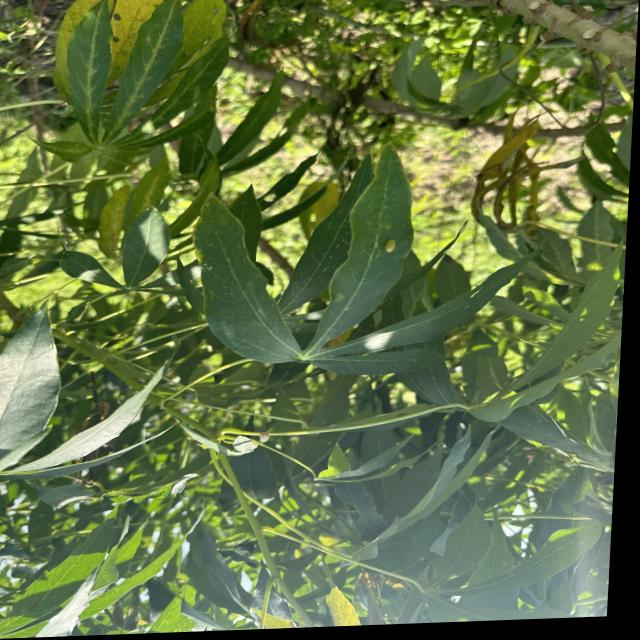Mosca: (381, 227, 409, 263)
